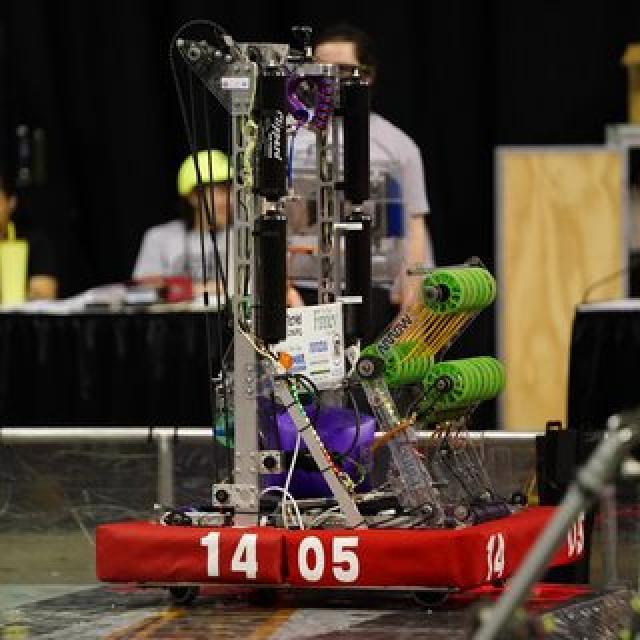robot: (91, 28, 587, 616)
